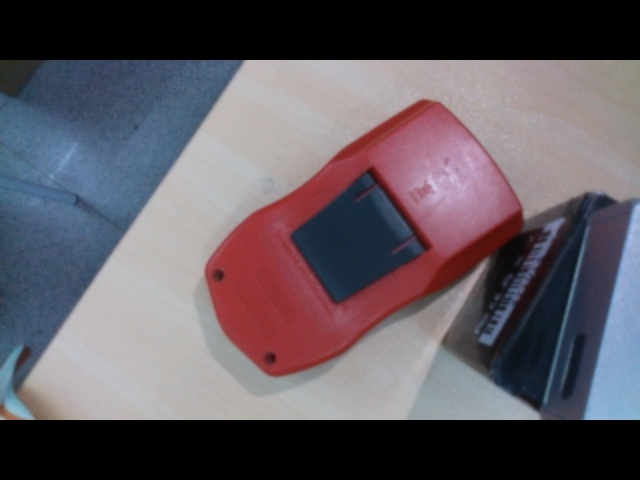Multimeter: (201, 99, 528, 380)
Screw holes: (209, 268, 226, 284), (264, 351, 277, 366)
